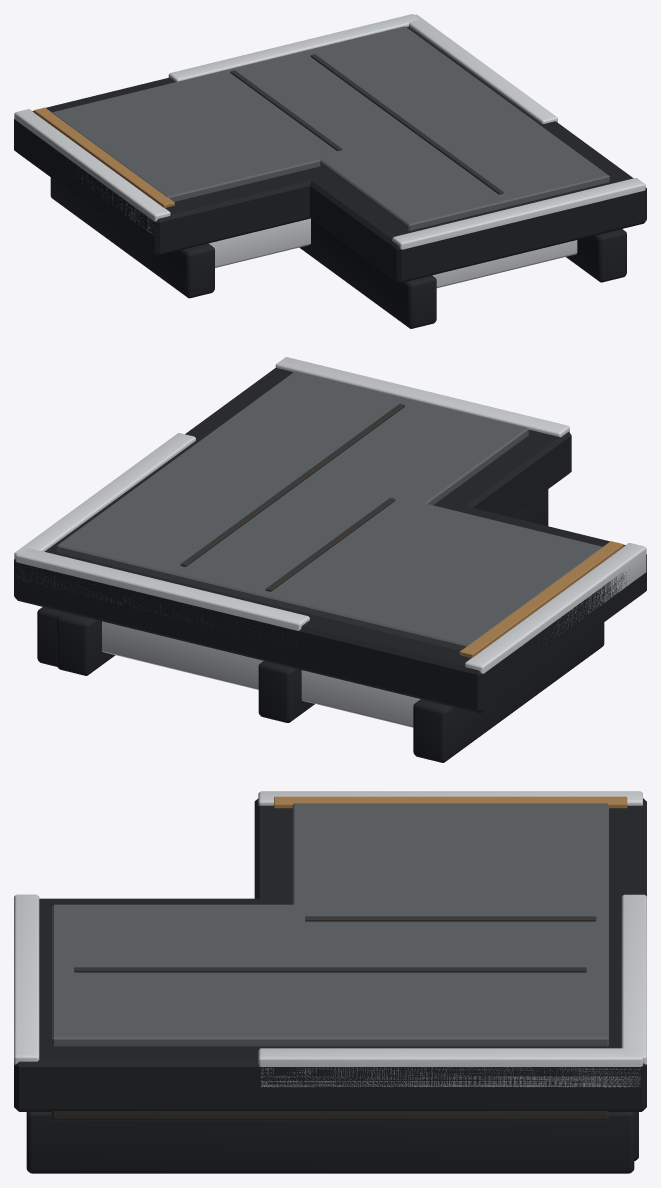
The model's file is path_corner.glb.
The picture shows the model from 3 angles, top to bottom: view 1: azimuth 30°, elevation 25°; view 2: azimuth 150°, elevation 25°; view 3: azimuth 270°, elevation 25°; orthographic projection. The views are drawn at different scales.
Visible parts, largest first — view 1: ArmXPanel, ArmYPanel, ArmXSlab, ArmYSlab, ArmXBeamL, ArmYBeamL, ArmXTrim0, ArmYTrim0, ArmXTrim1, ArmYRib0, ArmYTrim1, ArmXBeamR (+4 smaller); view 2: ArmYPanel, ArmXPanel, ArmYSlab, ArmXSlab, ArmYRib2, ArmYBeamL, ArmXTrim1, ArmYTrim0, ArmXTrim0, ArmYTrim1, ArmXBeamL, ArmYBeamR (+4 smaller); view 3: ArmYPanel, ArmXPanel, ArmXSlab, ArmXBeamR, ArmYSlab, ArmYTrim1, ArmXTray, ArmXTrim0, ArmXTrim1, ArmXGroove, ArmYHazard, ArmYTrim0 (+1 smaller).
Boxes of the visible parts, left/top/right/bottom form: ArmXPanel: left=206, top=26, right=609, bottom=230; ArmYPanel: left=52, top=26, right=517, bottom=201; ArmXSlab: left=299, top=26, right=646, bottom=282; ArmYSlab: left=14, top=27, right=541, bottom=255; ArmXBeamL: left=299, top=218, right=436, bottom=328; ArmYBeamL: left=50, top=177, right=214, bottom=298; ArmXTrim0: left=392, top=178, right=645, bottom=249; ArmYTrim0: left=14, top=109, right=170, bottom=234; ArmXTrim1: left=168, top=14, right=419, bottom=81; ArmYRib0: left=209, top=218, right=310, bottom=267; ArmYTrim1: left=407, top=14, right=557, bottom=123; ArmXBeamR: left=566, top=229, right=626, bottom=282; ArmYPanel: left=57, top=446, right=602, bottom=650; ArmXPanel: left=57, top=371, right=528, bottom=608; ArmYSlab: left=15, top=442, right=646, bottom=713; ArmXSlab: left=14, top=368, right=571, bottom=669; ArmYRib2: left=102, top=621, right=420, bottom=727; ArmYBeamL: left=413, top=622, right=604, bottom=762; ArmXTrim1: left=15, top=548, right=309, bottom=636; ArmYTrim0: left=465, top=543, right=646, bottom=673; ArmXTrim0: left=275, top=357, right=569, bottom=437; ArmYTrim1: left=14, top=433, right=195, bottom=559; ArmXBeamL: left=258, top=489, right=548, bottom=722; ArmYBeamR: left=56, top=612, right=115, bottom=675; ArmYPanel: left=292, top=803, right=608, bottom=1046; ArmXPanel: left=52, top=904, right=608, bottom=1046; ArmXSlab: left=14, top=898, right=646, bottom=1111; ArmXBeamR: left=26, top=1112, right=634, bottom=1173; ArmYSlab: left=254, top=798, right=646, bottom=1111; ArmYTrim1: left=258, top=1048, right=642, bottom=1087; ArmXTray: left=52, top=1111, right=608, bottom=1120; ArmXTrim0: left=14, top=894, right=39, bottom=1064; ArmXTrim1: left=621, top=894, right=646, bottom=1064; ArmXGroove: left=74, top=967, right=586, bottom=972; ArmYHazard: left=274, top=796, right=627, bottom=808; ArmYTrim0: left=258, top=791, right=642, bottom=805.
Size of the model in its own units: 1 by 0.234 by 1.
